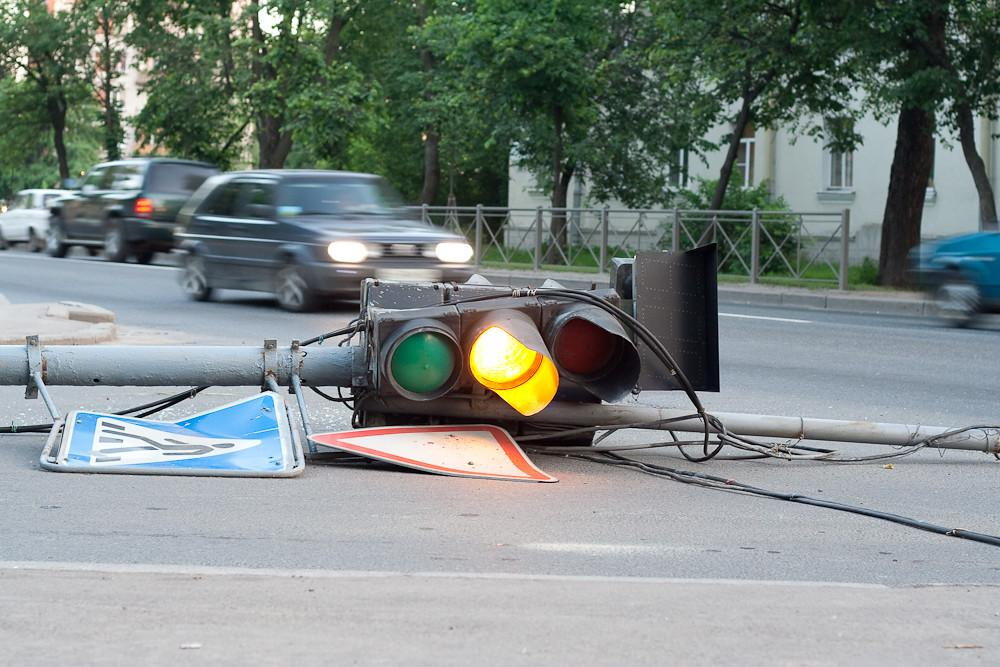obstructed_road_sign: (54, 392, 287, 475), (310, 425, 557, 482)
off traffic light: (365, 280, 640, 418)
